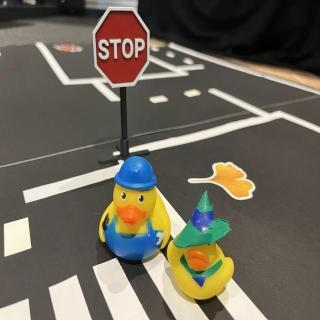duck_regular: (165, 194, 236, 305)
duck_specialty: (101, 159, 171, 264)
road_crosswalk: (1, 235, 215, 320)
sign_stop: (93, 7, 151, 91)
